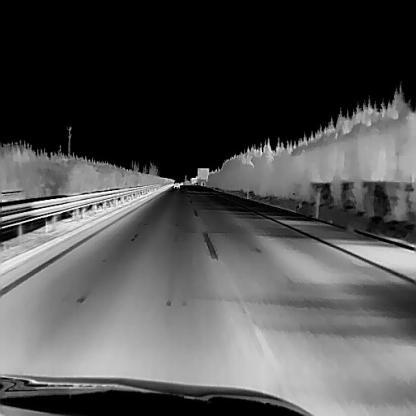car: (173, 178, 179, 187)
